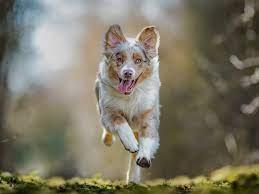Dog: (100, 21, 163, 96)
